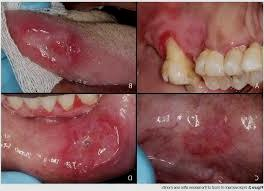Calculus: (152, 43, 195, 88), (192, 50, 225, 94), (225, 46, 245, 91), (244, 44, 262, 87)
Ulcer: (58, 114, 123, 173), (16, 34, 84, 70), (180, 120, 234, 157)
